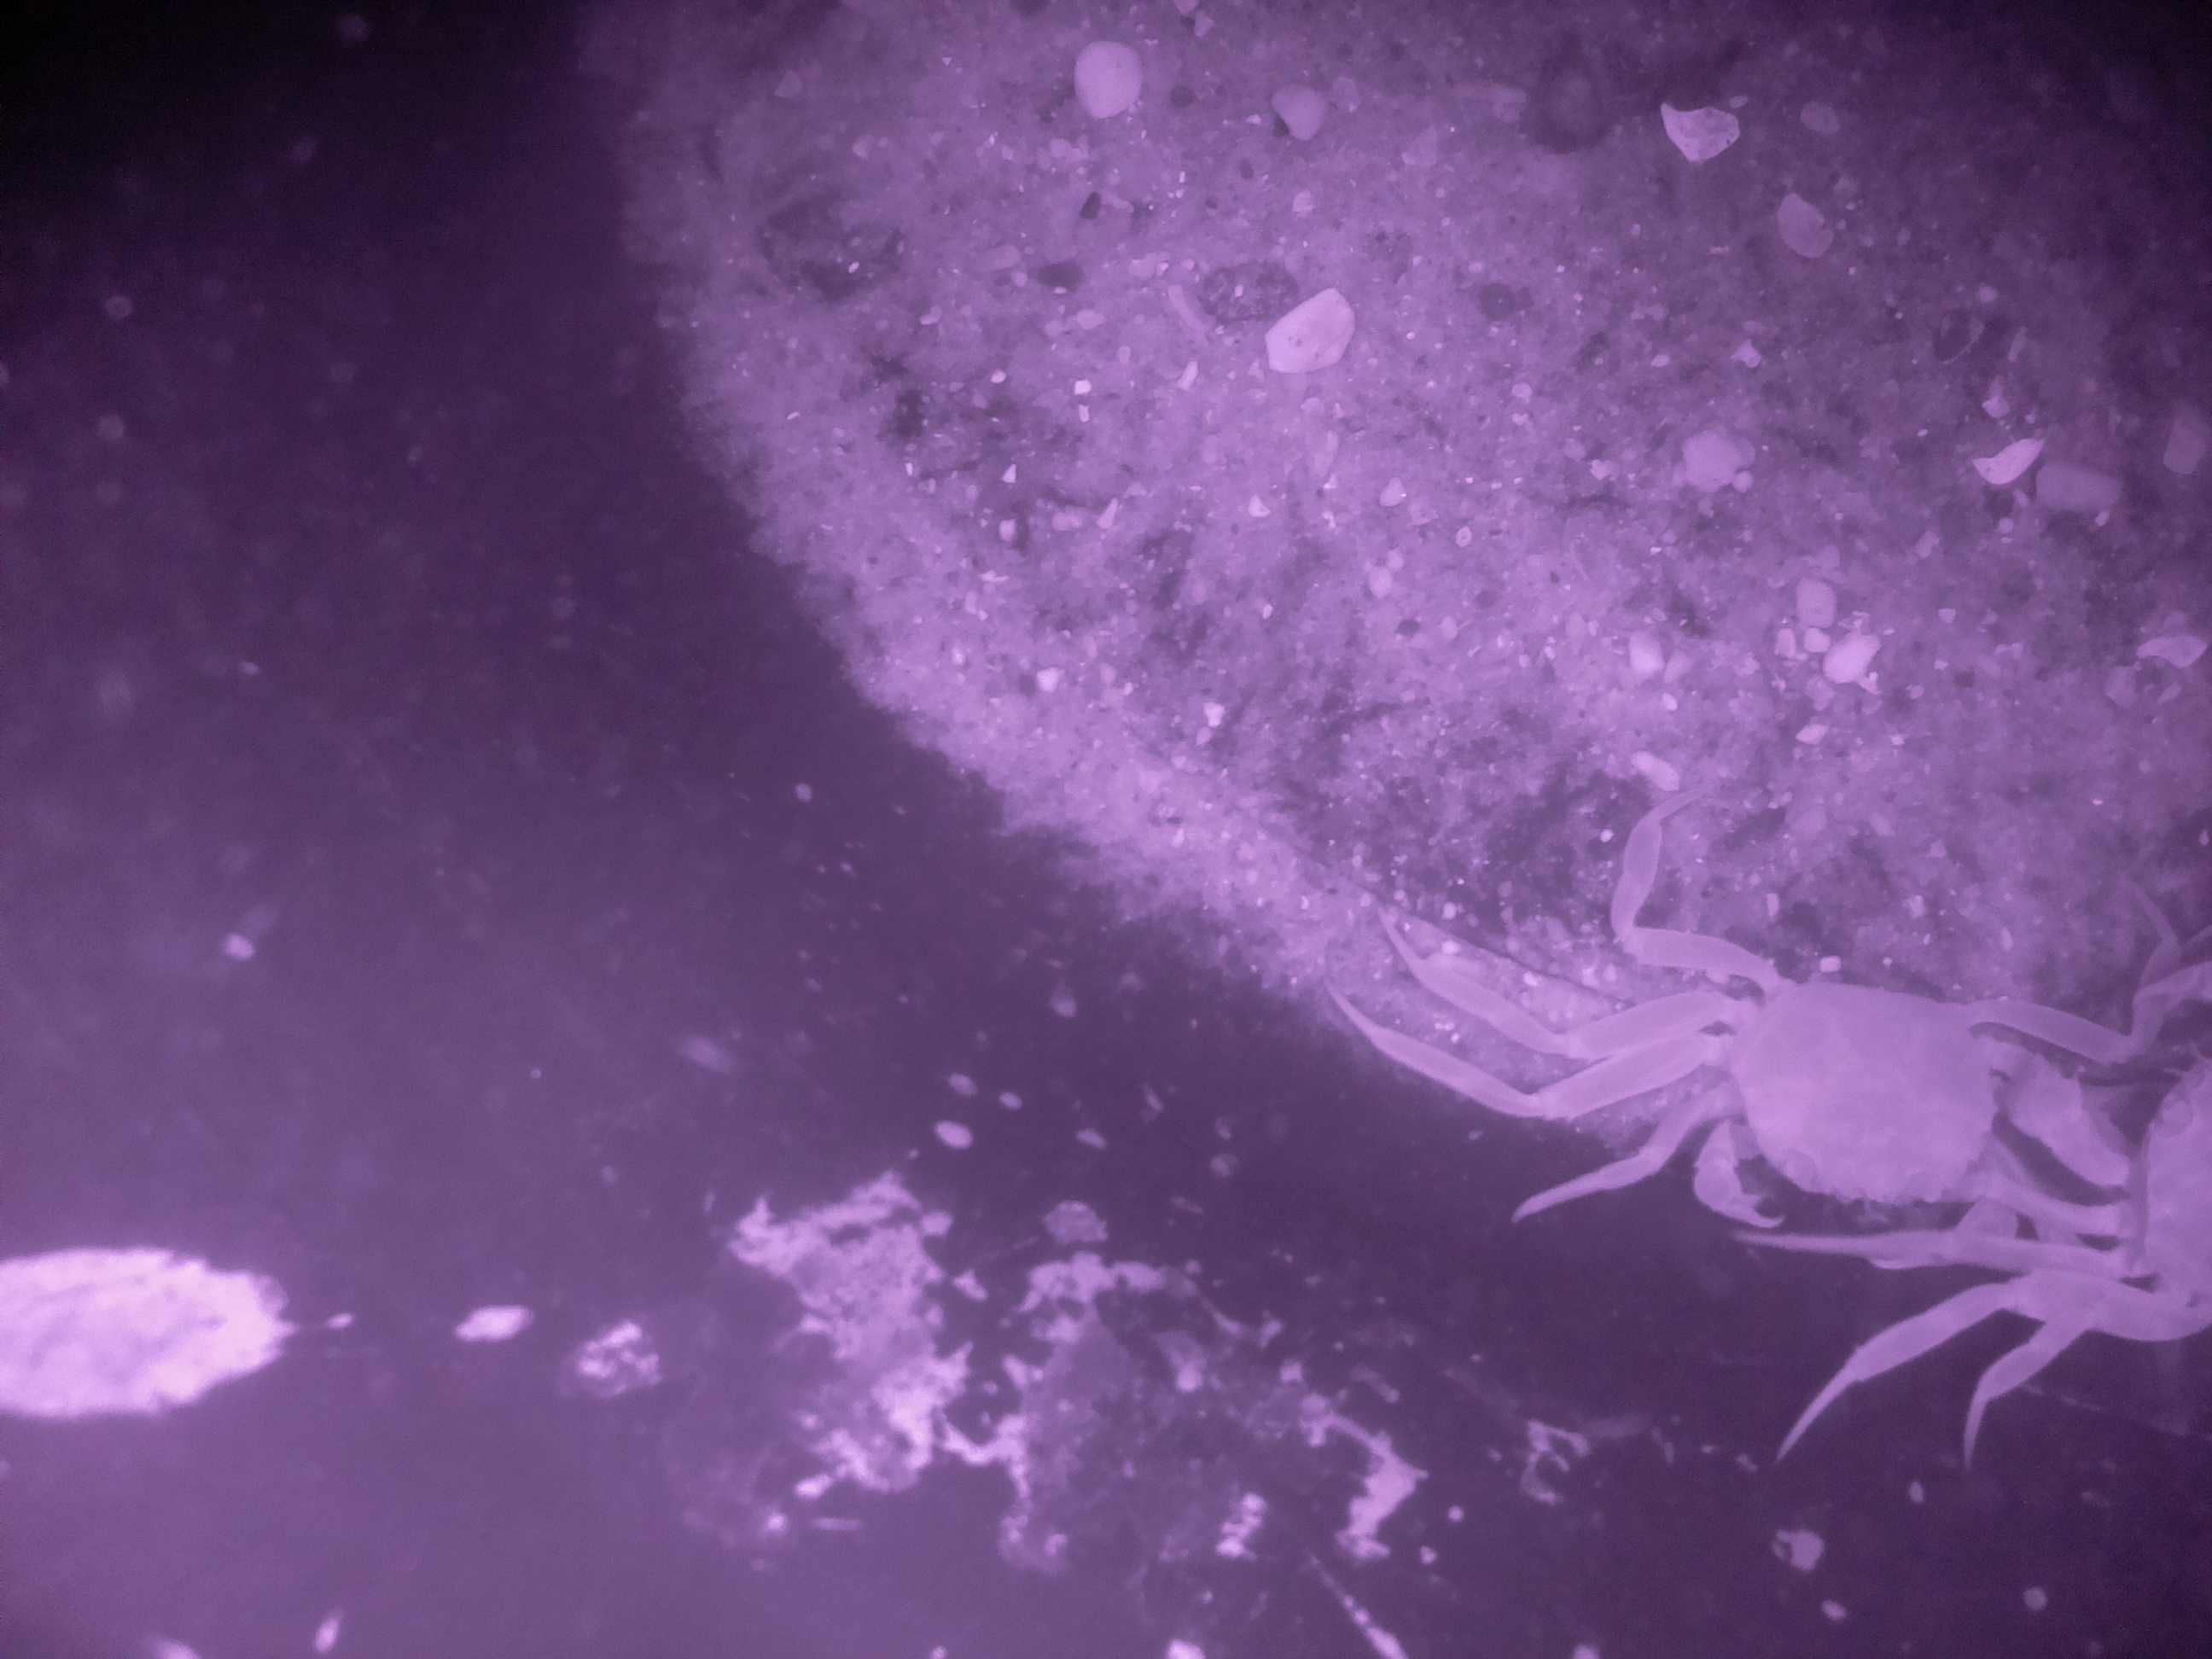Crab: (1547, 831, 2071, 1359)
